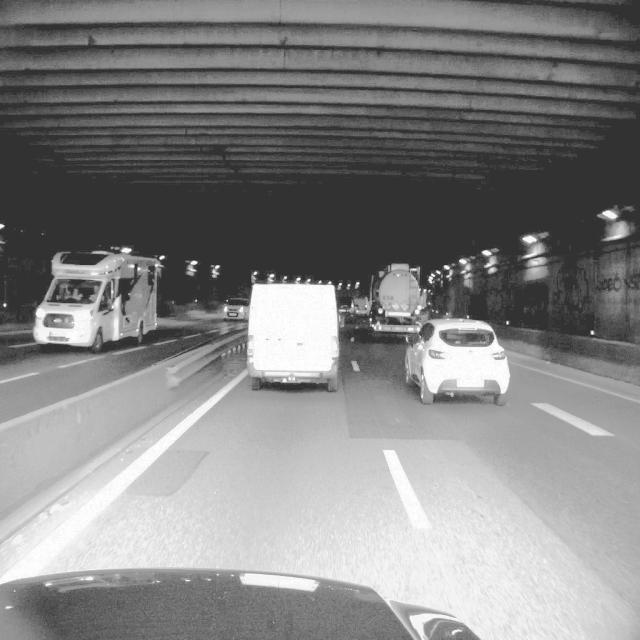Truck: (367, 263, 423, 337)
